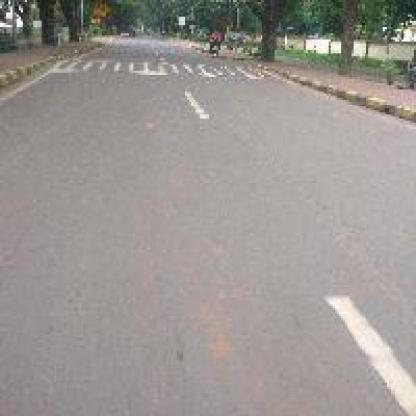Speed Bump: (42, 54, 285, 83)
